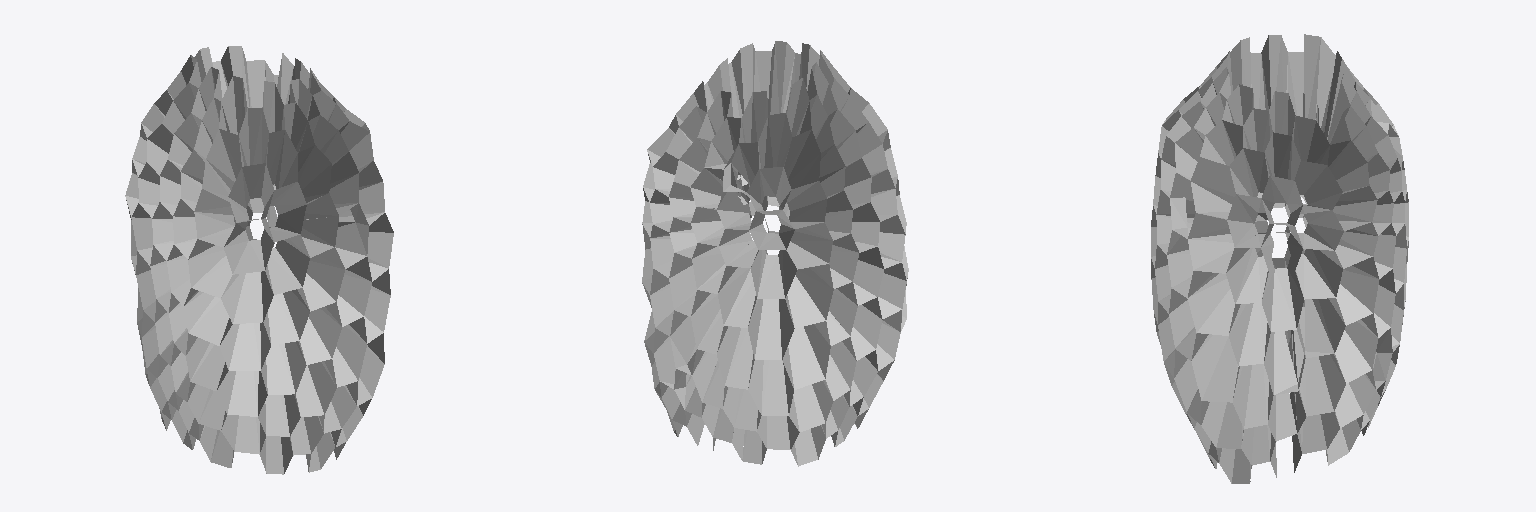
Rendered from Hive_triangulated2.obj.
3 renders of one model, left to right at view 1: azimuth 30°, elevation 25°; view 2: azimuth 150°, elevation 25°; view 3: azimuth 270°, elevation 25°, orthographic.
Visible parts, largest first — view 1: polySurface15; view 2: polySurface15; view 3: polySurface15.
Part boxes in pixels (x1,y1,x2,y2): polySurface15: (125, 46, 393, 474); polySurface15: (642, 41, 908, 466); polySurface15: (1151, 34, 1408, 483).
Bounding box in the file's own units: 52.88 × 98.02 × 57.27.